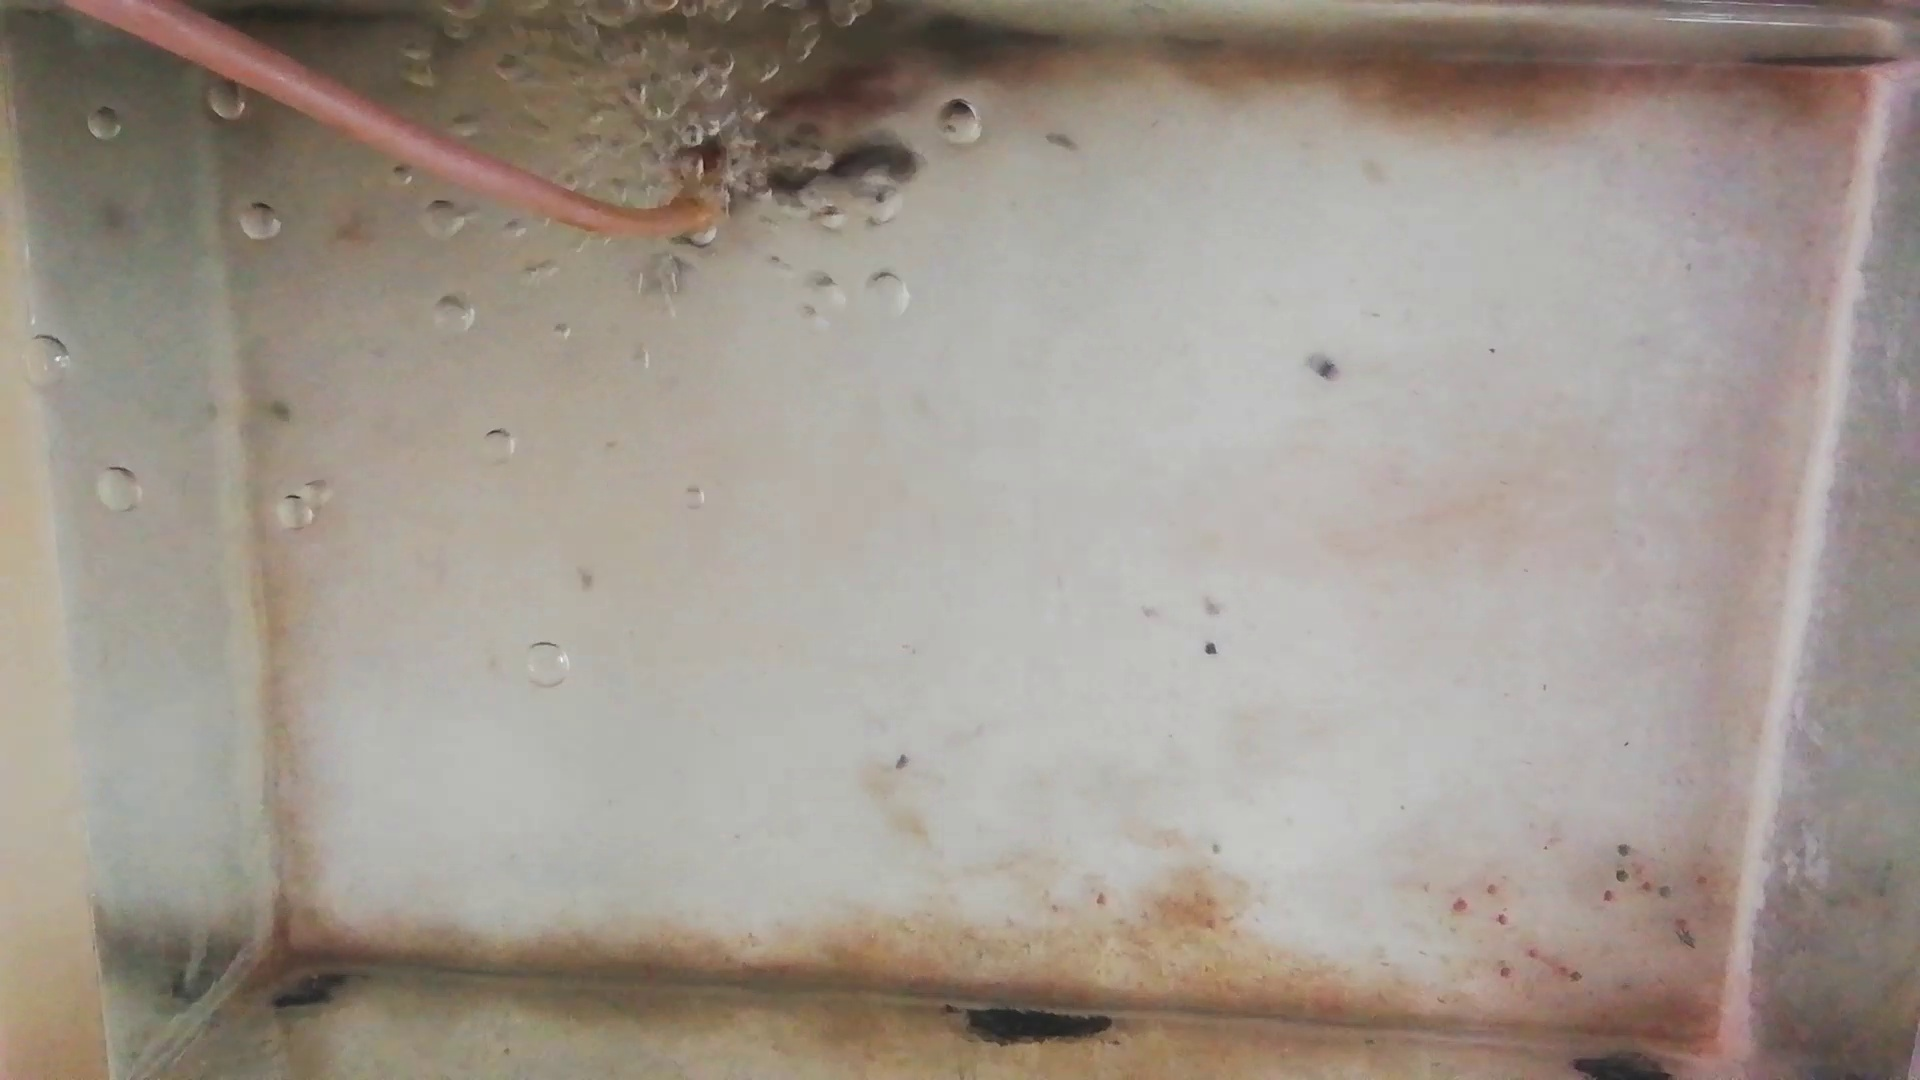fish: (756, 53, 922, 127), (725, 145, 926, 200)
